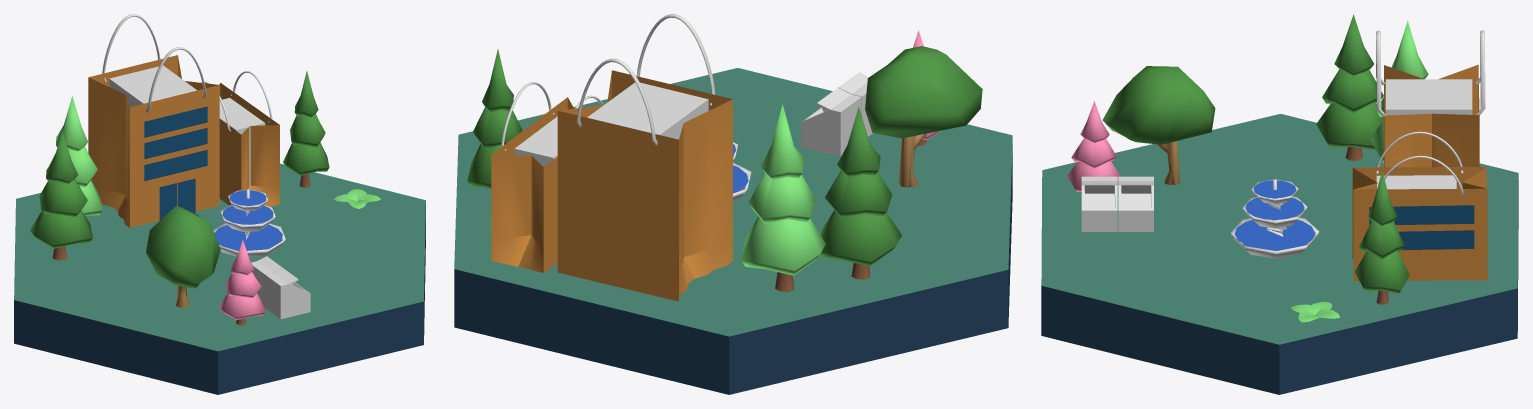
The model's file is Macro - Shop lvl 1 WM1.fbx.
3 views of the same model, side by side, from view 1: azimuth 30°, elevation 25°; view 2: azimuth 150°, elevation 25°; view 3: azimuth 270°, elevation 25° (orthographic). The views are drawn at different scales.
Parts seen in each view (by area): view 1: Cylinder.179, Circle.006, Circle.005, tree1 v:88 f:56, Tree_Spruce_tiny_01.002, Cube.018, Tree_Spruce_tiny_01.007, Tree_Spruce_tiny_01.001, Tree_Spruce_tiny_01.005, Cube.138, Cube.002, Plane.007 (+7 smaller); view 2: Cylinder.179, Circle.006, tree1 v:88 f:56, Circle.005, Tree_Spruce_tiny_01.005, Tree_Spruce_tiny_01.002, Cube.138, Tree_Spruce_tiny_01.007, Cube.004, Cube.139, Cube.002, Cube.018; view 3: Cylinder.179, Circle.005, tree1 v:88 f:56, Circle.006, Tree_Spruce_tiny_01.002, Cube.018, Tree_Spruce_tiny_01.007, Cube.138, Tree_Spruce_tiny_01.001, Cube.002, Cube.004, Plane.004 (+4 smaller).
Part boxes in pixels (box(x1,y1,x2,y2)): Cylinder.179: box(14, 163, 425, 394); Circle.006: box(88, 14, 219, 227); Circle.005: box(201, 71, 279, 206); tree1 v:88 f:56: box(146, 205, 220, 307); Tree_Spruce_tiny_01.002: box(30, 132, 92, 260); Cube.018: box(213, 189, 285, 257); Tree_Spruce_tiny_01.007: box(283, 71, 329, 187); Tree_Spruce_tiny_01.001: box(219, 240, 265, 325); Tree_Spruce_tiny_01.005: box(40, 96, 102, 215); Cube.138: box(109, 65, 196, 106); Cube.002: box(265, 268, 310, 319); Plane.007: box(144, 106, 207, 137); Cylinder.179: box(454, 68, 1012, 394); Circle.006: box(557, 14, 732, 301); tree1 v:88 f:56: box(865, 46, 982, 187); Circle.005: box(491, 82, 603, 272); Tree_Spruce_tiny_01.005: box(741, 104, 825, 291); Tree_Spruce_tiny_01.002: box(820, 106, 901, 279); Cube.138: box(587, 82, 708, 139); Tree_Spruce_tiny_01.007: box(467, 49, 522, 188); Cube.004: box(800, 88, 861, 156); Cube.139: box(514, 116, 557, 166); Cube.002: box(838, 72, 872, 136); Cube.018: box(733, 142, 751, 201); Cylinder.179: box(1041, 114, 1518, 394); Circle.005: box(1352, 131, 1487, 280); tree1 v:88 f:56: box(1102, 66, 1215, 185); Circle.006: box(1376, 30, 1485, 167); Tree_Spruce_tiny_01.002: box(1316, 14, 1383, 160); Cube.018: box(1230, 179, 1319, 258); Tree_Spruce_tiny_01.007: box(1355, 171, 1409, 304); Cube.138: box(1385, 79, 1472, 115); Tree_Spruce_tiny_01.001: box(1067, 101, 1120, 191); Cube.002: box(1081, 176, 1117, 231); Cube.004: box(1118, 176, 1153, 231); Plane.004: box(1369, 205, 1474, 225).
Size of the model in its own units: 197 by 98.68 by 172.
